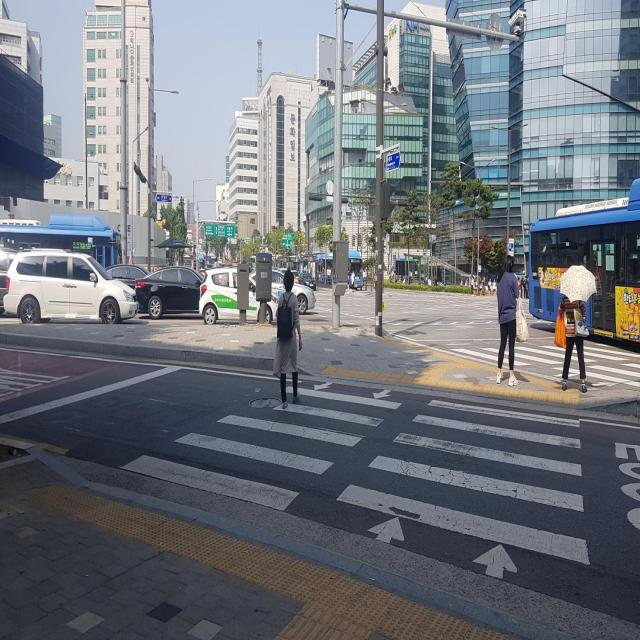횡단보도: (117, 376, 591, 580), (452, 341, 640, 372)
